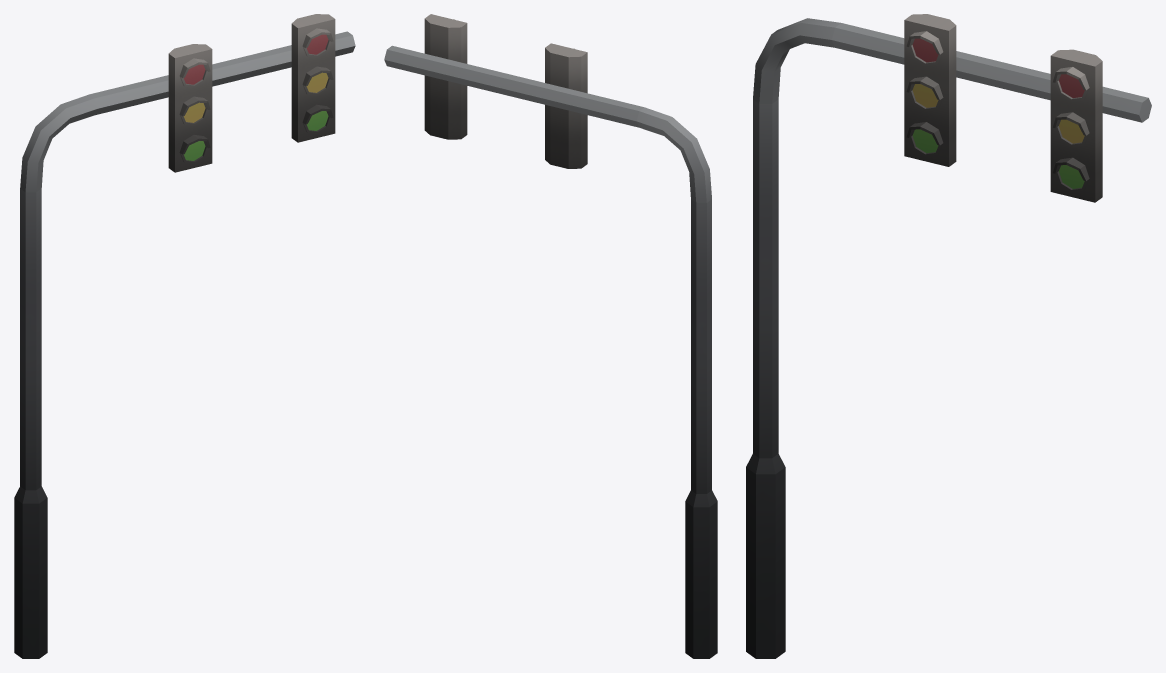
The model's file is Traffic_Light_02.fbx.
The picture shows the model from 3 angles, left to right: view 1: azimuth 30°, elevation 25°; view 2: azimuth 150°, elevation 25°; view 3: azimuth 330°, elevation 25°; orthographic projection. The views are drawn at different scales.
Parts seen in each view (by area): view 1: pCube179; view 2: pCube179; view 3: pCube179.
Part boxes in pixels (x1,y1,x2,y2): pCube179: (14,14,355,658); pCube179: (384,14,717,658); pCube179: (746,14,1151,658).
Bounding box in the file's own units: 322 × 532 × 46.13.
